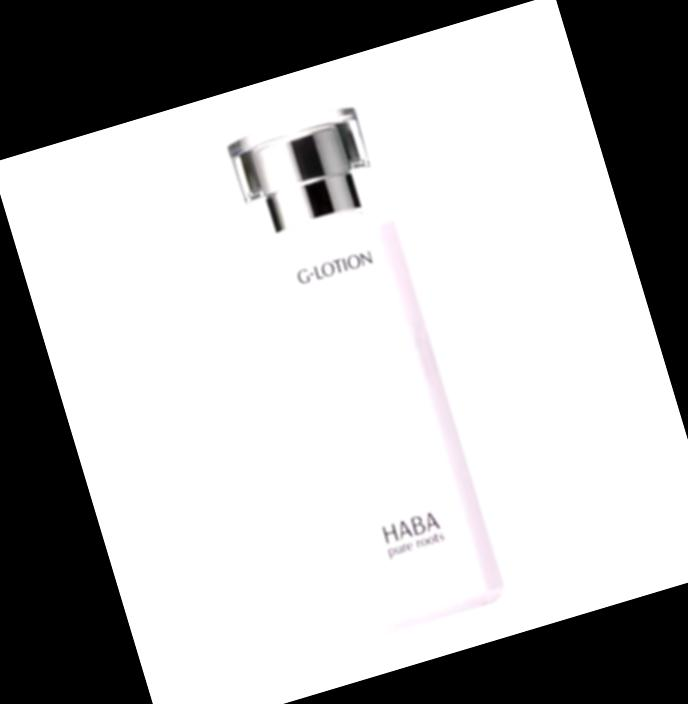cosmetic: (220, 101, 510, 638)
